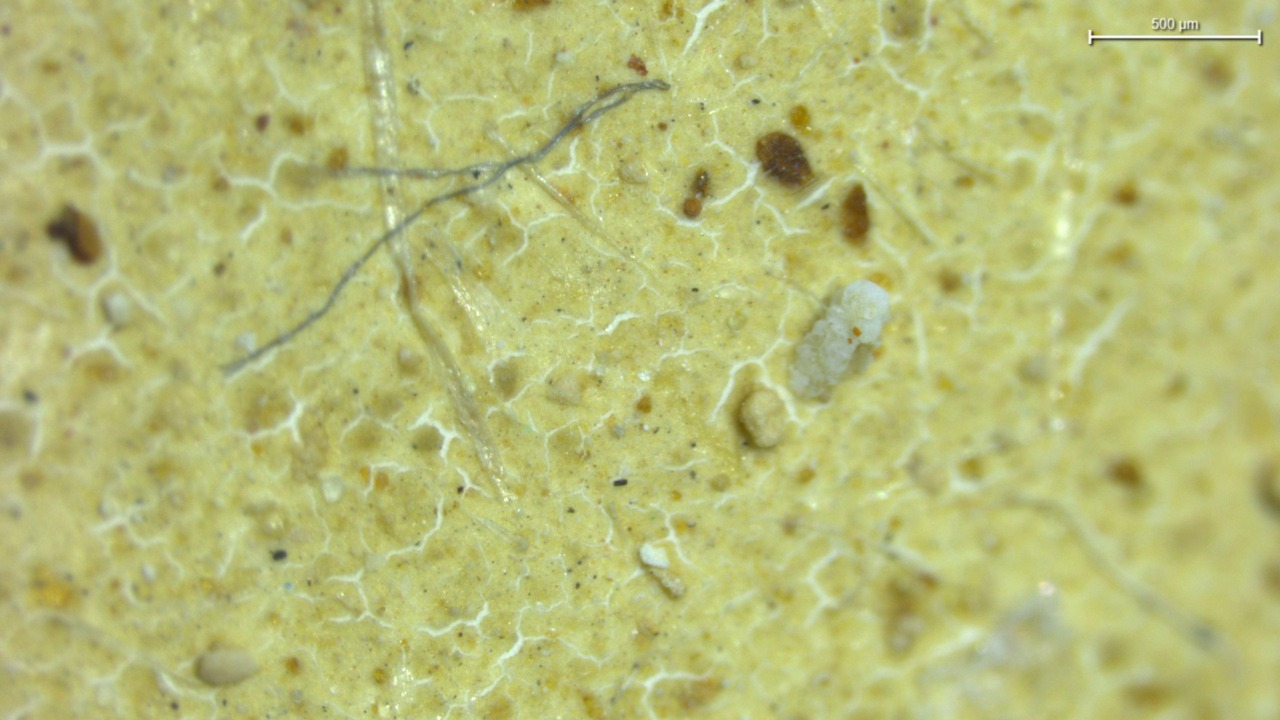microplastic_fragment: (790, 279, 890, 398), (738, 388, 787, 448), (639, 543, 669, 568)
